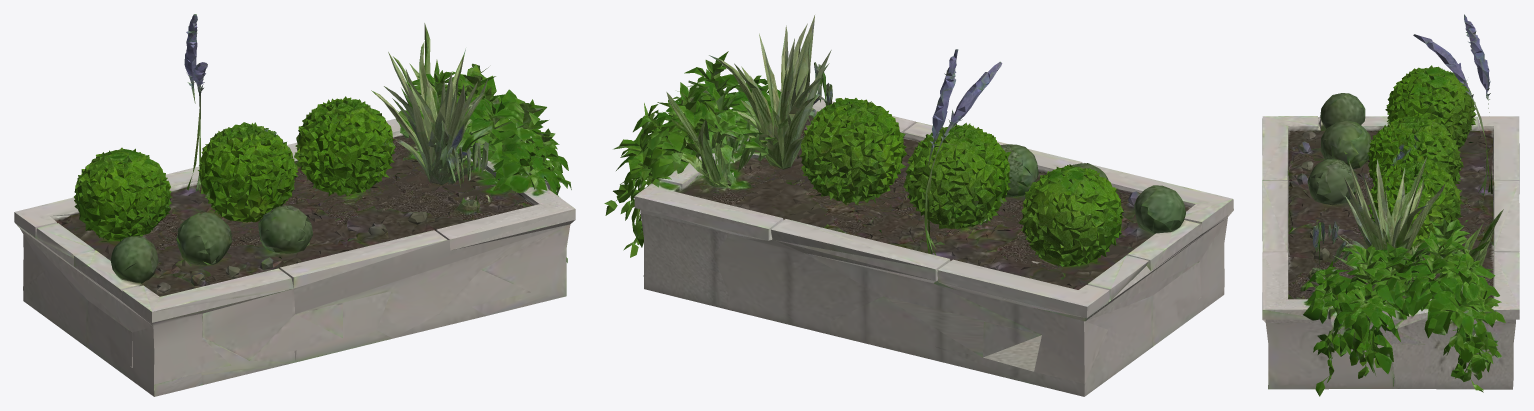
Rendered from terracoBed.glb.
3 renders of one model, left to right at view 1: azimuth 30°, elevation 25°; view 2: azimuth 150°, elevation 25°; view 3: azimuth 270°, elevation 25°, orthographic. The views are drawn at different scales.
Bounding box in the file's own units: 1.9 × 1.04 × 0.9594.
1 material, 1 textured.
